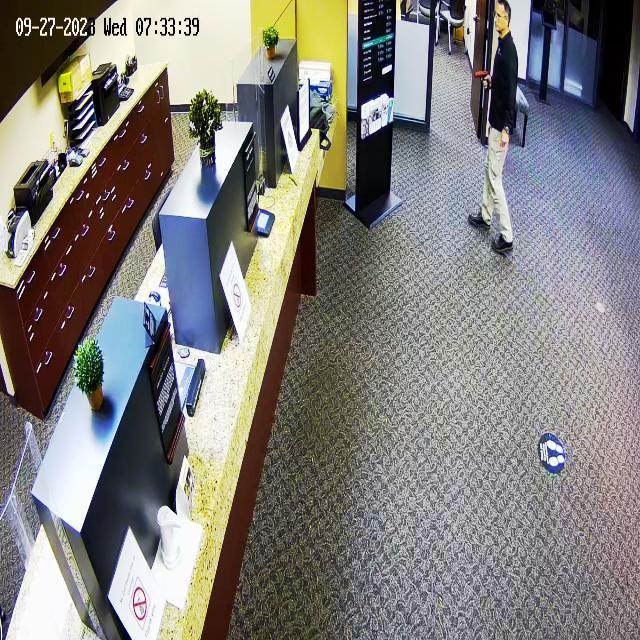Gun: (467, 64, 492, 92)
